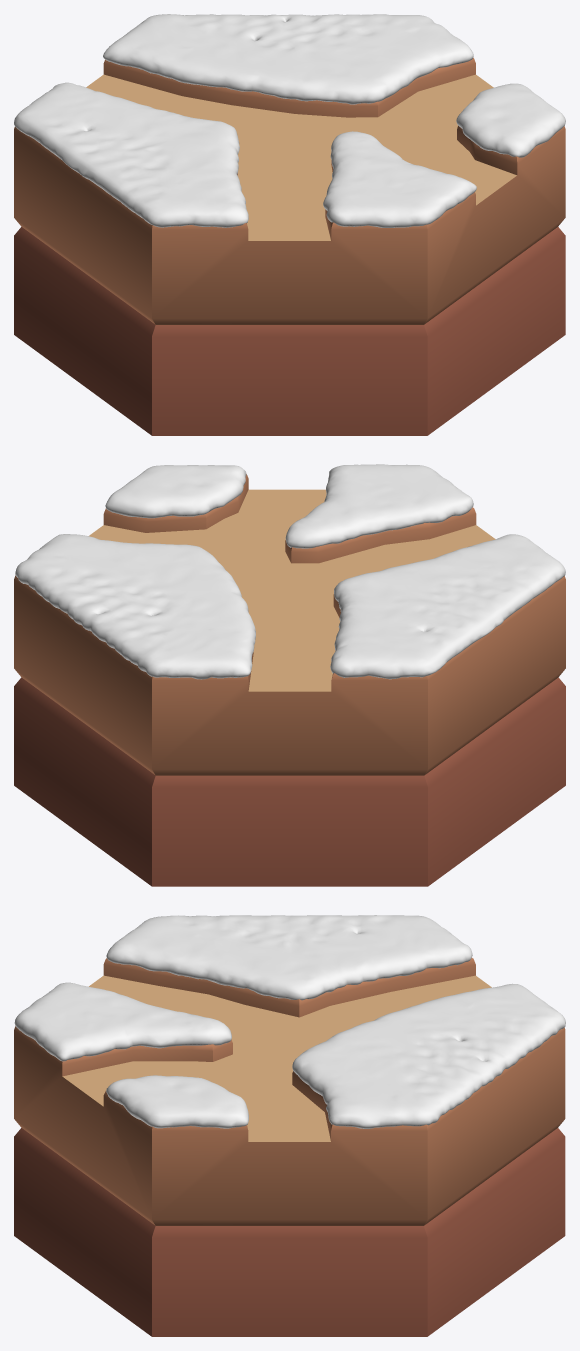
Rendered from hex_rock_roadI_detail.fbx.
3 renders of one model, top to bottom at view 1: azimuth 30°, elevation 25°; view 2: azimuth 150°, elevation 25°; view 3: azimuth 270°, elevation 25°, orthographic.
Parts seen in each view (by area): view 1: hex_rock_roadI_detail.002, SnowBall.001, hex_rock_roadI_detail.001, hex_rock_roadI_detail; view 2: hex_rock_roadI_detail.002, SnowBall.001, hex_rock_roadI_detail.001, hex_rock_roadI_detail; view 3: hex_rock_roadI_detail.002, SnowBall.001, hex_rock_roadI_detail.001, hex_rock_roadI_detail.
Boxes of the visible parts, left/top/right/bottom form: hex_rock_roadI_detail.002: left=14, top=227, right=565, bottom=435; SnowBall.001: left=14, top=14, right=565, bottom=227; hex_rock_roadI_detail.001: left=14, top=58, right=565, bottom=324; hex_rock_roadI_detail: left=86, top=74, right=516, bottom=240; hex_rock_roadI_detail.002: left=14, top=677, right=565, bottom=886; SnowBall.001: left=15, top=464, right=565, bottom=679; hex_rock_roadI_detail.001: left=14, top=474, right=565, bottom=775; hex_rock_roadI_detail: left=89, top=489, right=495, bottom=691; hex_rock_roadI_detail.002: left=14, top=1128, right=565, bottom=1336; SnowBall.001: left=14, top=915, right=565, bottom=1128; hex_rock_roadI_detail.001: left=14, top=958, right=565, bottom=1225; hex_rock_roadI_detail: left=62, top=975, right=491, bottom=1141.
Bounding box in the file's own units: 203 × 104 × 231.
